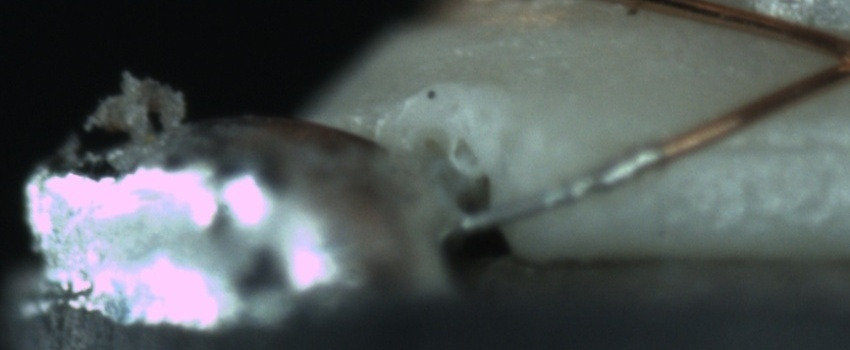CL: (805, 24, 849, 92)
DL: (698, 117, 849, 179)
TS: (464, 148, 666, 232)
TTCW: (473, 129, 701, 233)
